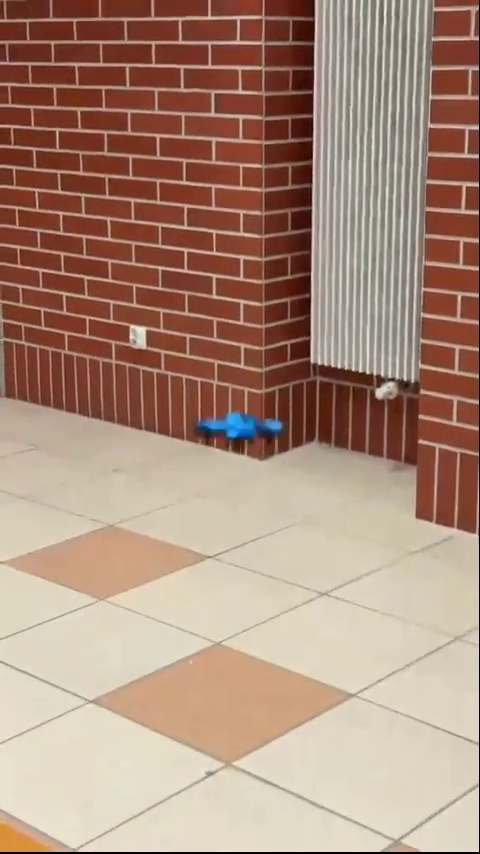drone: (200, 407, 282, 451)
